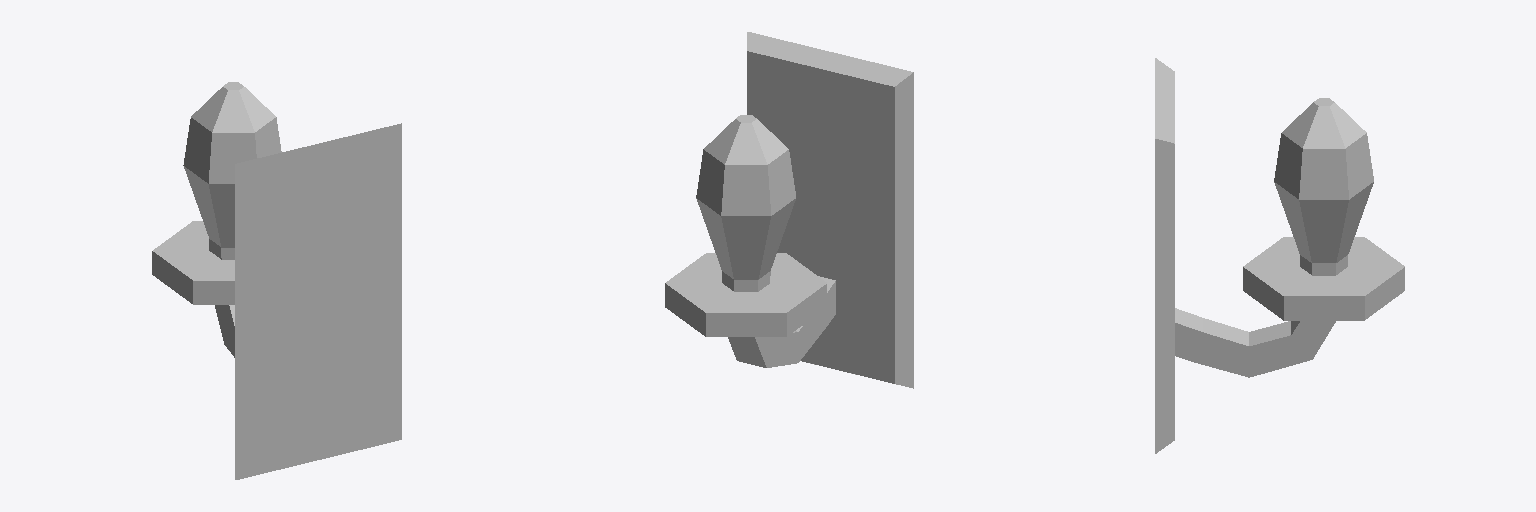
The model's file is Lamp Base.obj.
3 views of the same model, side by side, from view 1: azimuth 30°, elevation 25°; view 2: azimuth 150°, elevation 25°; view 3: azimuth 270°, elevation 25° (orthographic).
Parts seen in each view (by area): view 1: Lamp_Base; view 2: Lamp_Base; view 3: Lamp_Base.
Part boxes in pixels (x1,y1,x2,y2): Lamp_Base: (152, 82, 401, 479); Lamp_Base: (665, 32, 913, 388); Lamp_Base: (1155, 58, 1404, 453).
Size of the model in its own units: 0.214 by 0.3889 by 0.279.